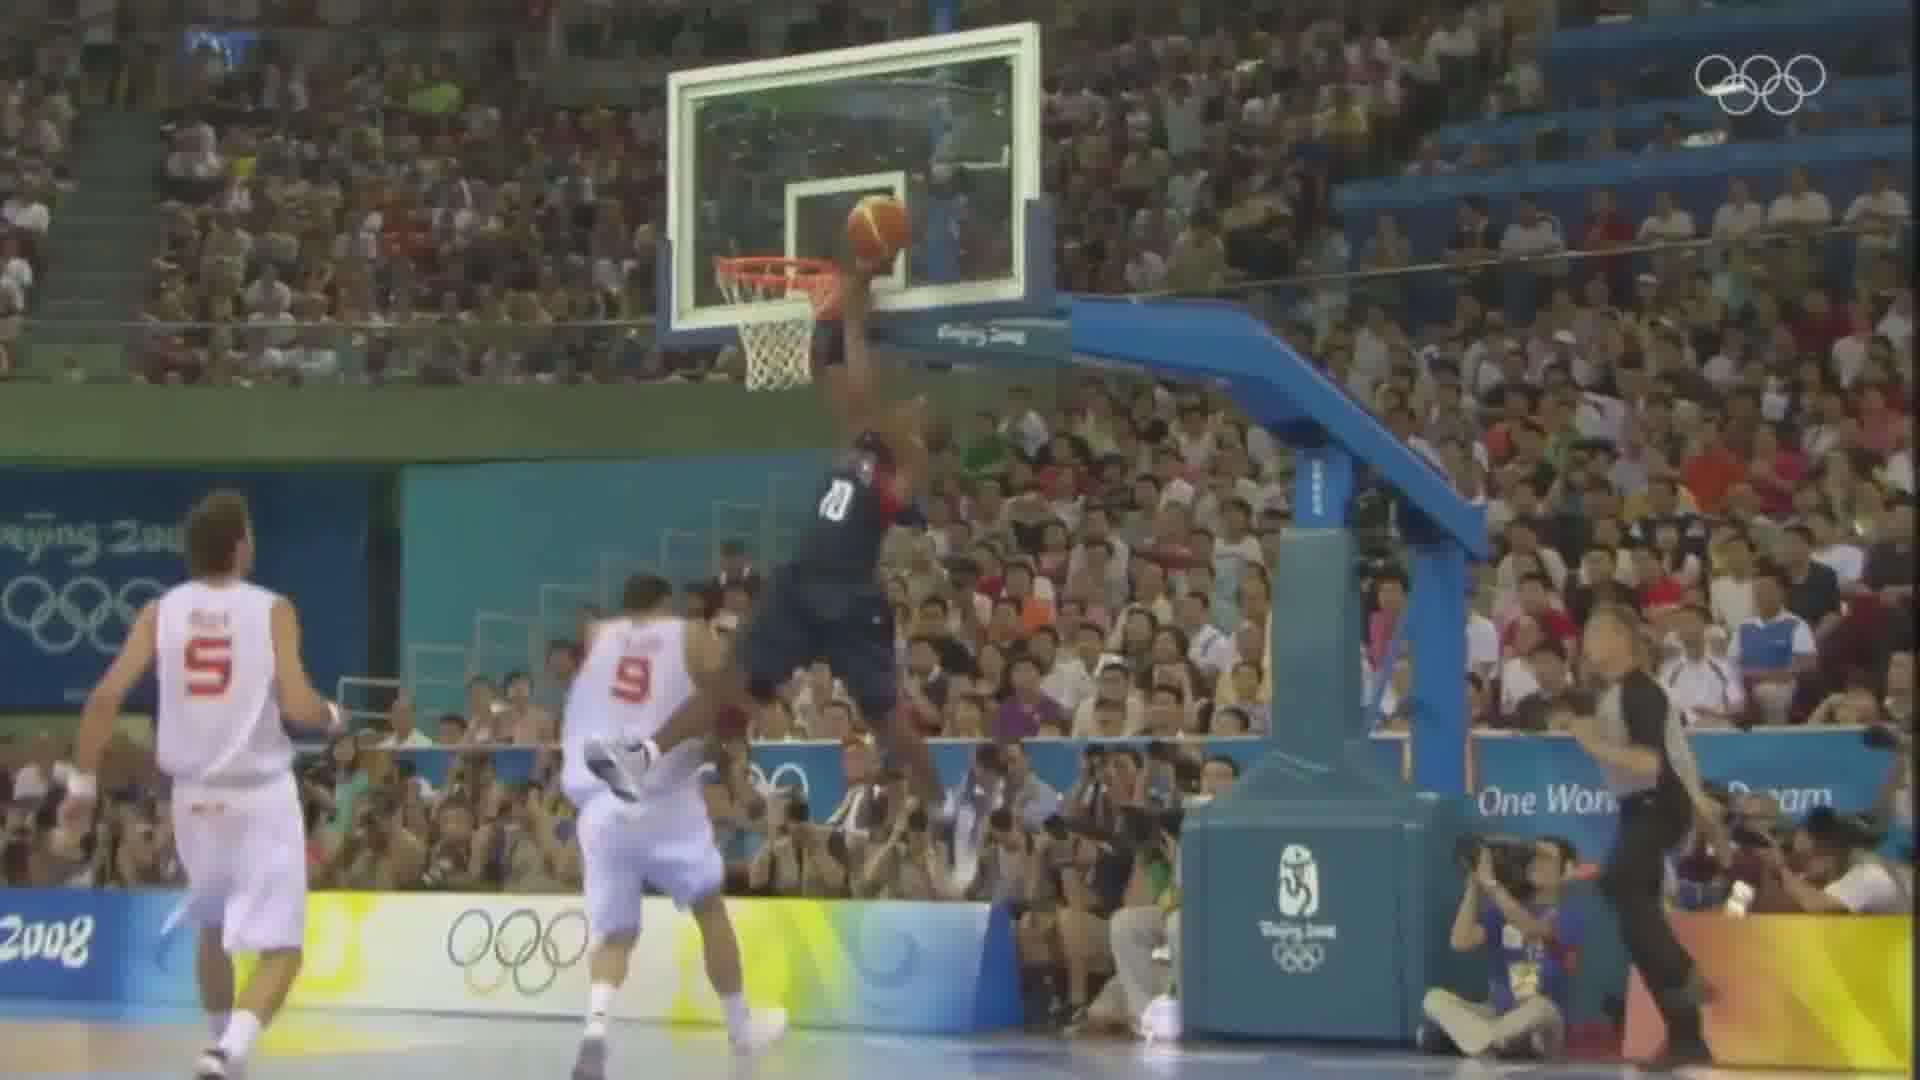ball: (837, 191, 919, 269)
net: (712, 249, 837, 397)
